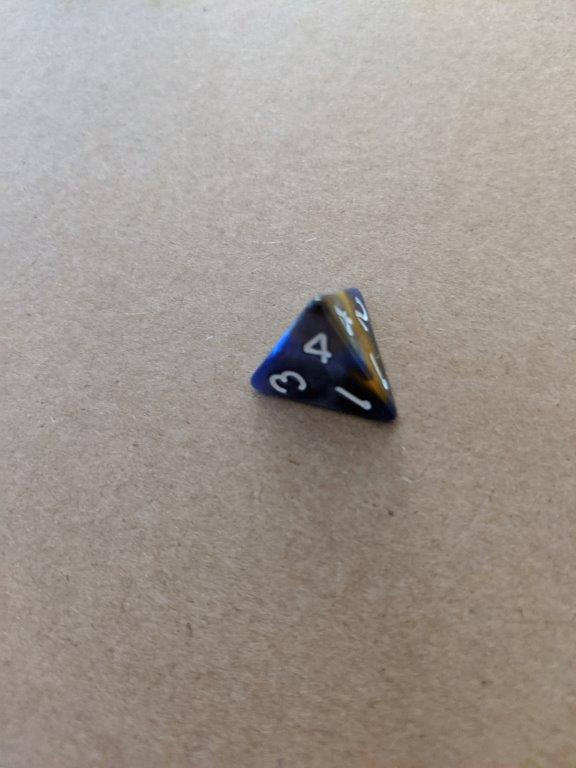d4-4: (249, 286, 402, 429)
